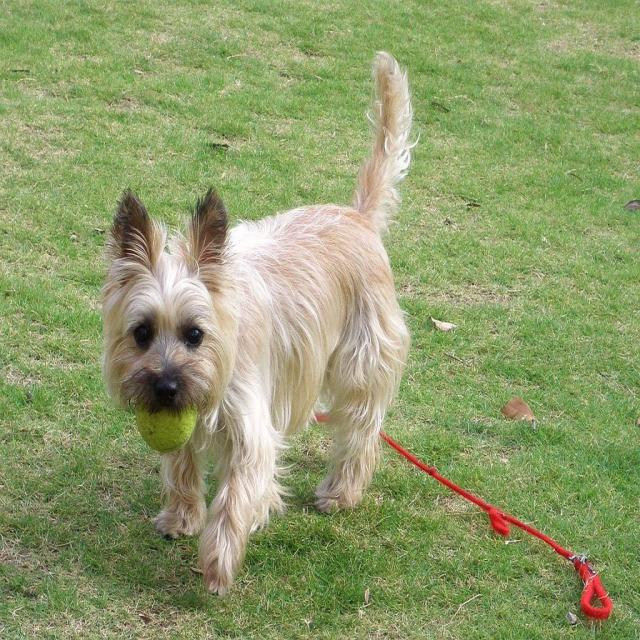Tennis ball: (136, 405, 197, 454)
